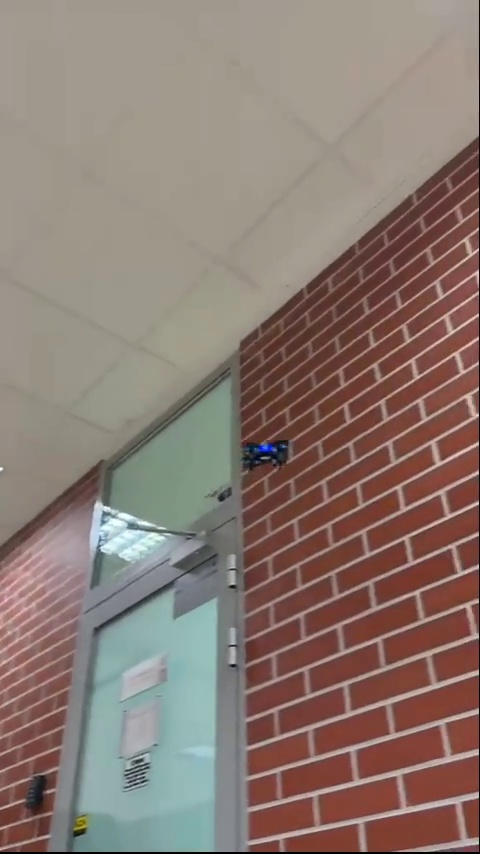drone: (236, 434, 300, 473)
